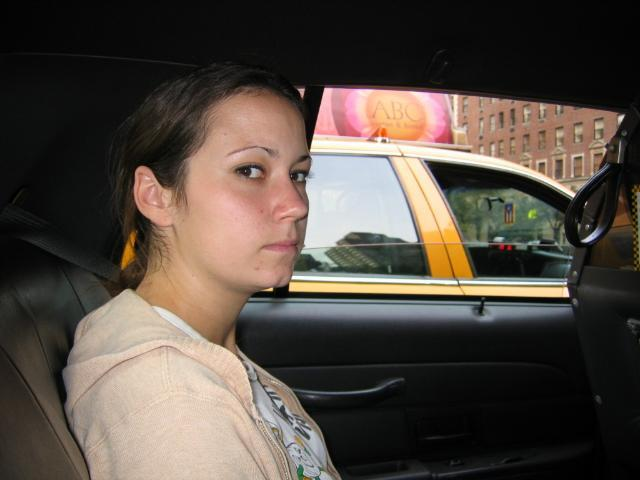SafeDriving: (225, 150, 272, 185), (284, 157, 314, 189)
Seatbelt: (0, 202, 122, 284)
